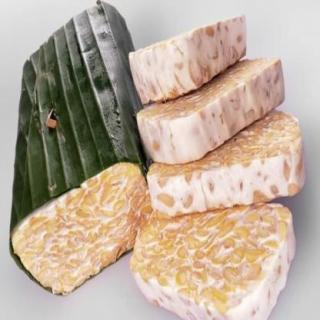Tempe: (7, 3, 309, 320)
